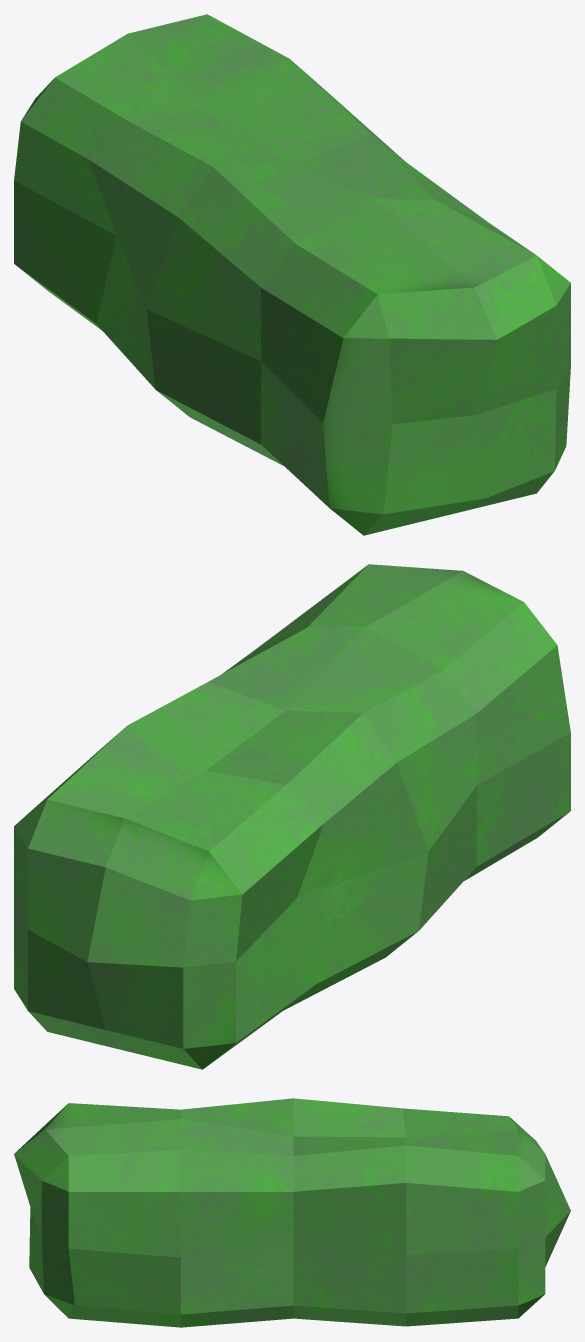
File: BushL.fbx
3 views of the same model, one above another, from view 1: azimuth 30°, elevation 25°; view 2: azimuth 150°, elevation 25°; view 3: azimuth 270°, elevation 25° (orthographic). The views are drawn at different scales.
Visible parts, largest first — view 1: pCube1; view 2: pCube1; view 3: pCube1.
Boxes of the visible parts, bbox=[...] form: pCube1: bbox=[14, 14, 570, 535]; pCube1: bbox=[14, 564, 570, 1069]; pCube1: bbox=[14, 1098, 570, 1327].
Bounding box in the file's own units: 2.54 × 2.15 × 6.26.
Materials: 1 (1 with a texture image).
